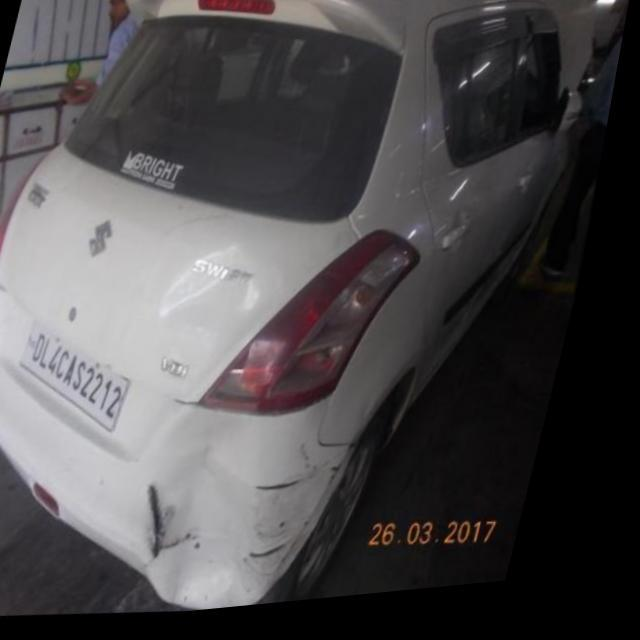crack: (297, 457, 364, 588), (272, 466, 361, 505), (165, 482, 187, 573), (270, 547, 314, 570)
dent: (171, 449, 276, 612), (169, 250, 282, 351)
